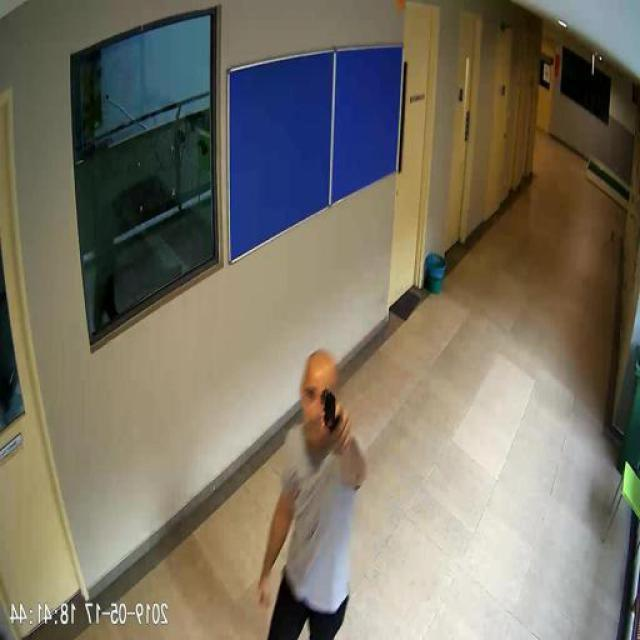weapon: (318, 390, 344, 433)
